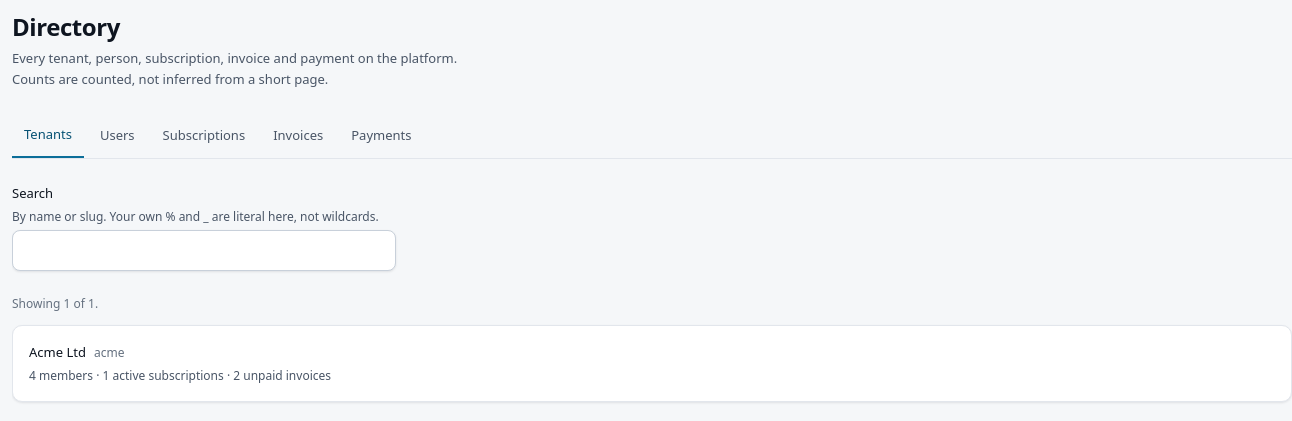
it: the tab › is in the URL, so one listing can be linked to
This screenshot has width=1292, height=421.
Expected: the text "Acme Ltd" is shown, [29,342,86,363]
Click the button "invoices".
click(298, 136)  # box [261,114,335,158]
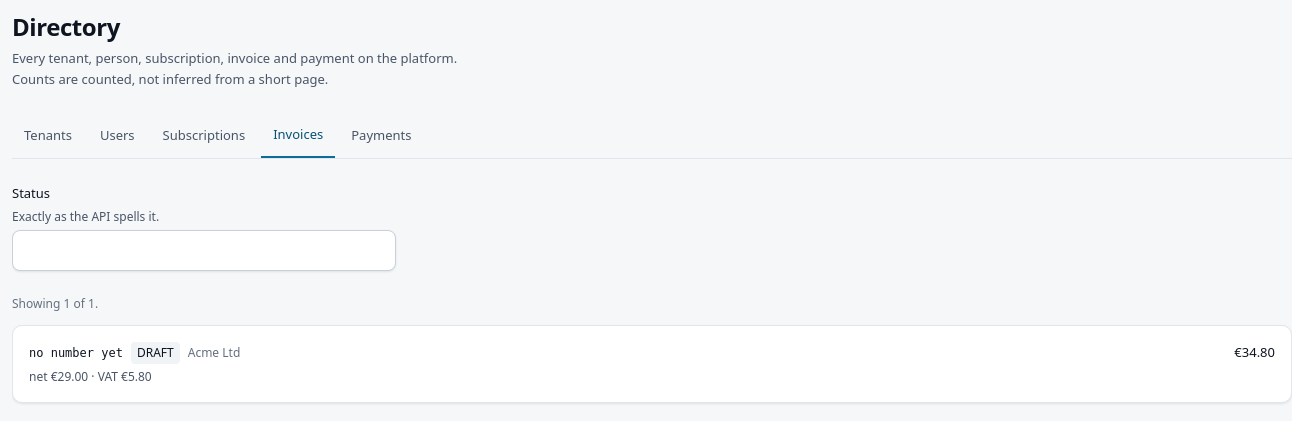
Result: the text "no number yet" is shown at [29,344,123,362]
